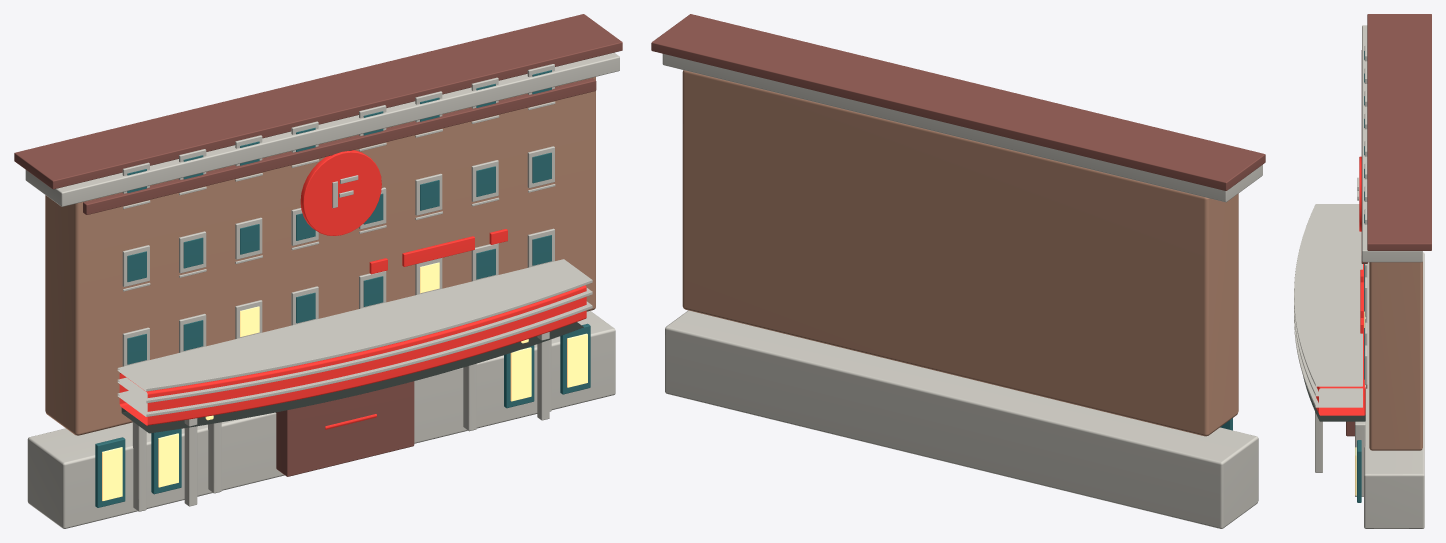
File: filmstaden.glb
3 views of the same model, side by side, from view 1: azimuth 30°, elevation 25°; view 2: azimuth 150°, elevation 25°; view 3: azimuth 270°, elevation 25° (orthographic). The views are drawn at different scales.
Visible parts, largest first — view 1: LM_Filmstaden_BrickFacade, LM_Filmstaden_DarkRoofCap, LM_Filmstaden_LightStoneGroundFloor, LM_Filmstaden_MarqueeHorizontalBand_2, LM_Filmstaden_ShallowCurvedMarquee, LM_Filmstaden_RoofCornice, LM_Filmstaden_RecessedEntranceBay, LM_Filmstaden_BrickCorniceDetail, LM_Filmstaden_RoundFSign_Backplate, LM_Filmstaden_MarqueeUnderside, LM_Filmstaden_MarqueeHorizontalBand_0, LM_Filmstaden_MarqueeHorizontalBand_1 (+14 smaller); view 2: LM_Filmstaden_BrickFacade, LM_Filmstaden_LightStoneGroundFloor, LM_Filmstaden_DarkRoofCap, LM_Filmstaden_RoofCornice; view 3: LM_Filmstaden_DarkRoofCap, LM_Filmstaden_MarqueeHorizontalBand_2, LM_Filmstaden_BrickFacade, LM_Filmstaden_LightStoneGroundFloor, LM_Filmstaden_RoofCornice, LM_Filmstaden_MarqueeHorizontalBand_0, LM_Filmstaden_ShallowCurvedMarquee, LM_Filmstaden_MarqueeHorizontalBand_1, LM_Filmstaden_GroundFloorColumn_3, LM_Filmstaden_MarqueeSupportColumn_1, LM_Filmstaden_MarqueeUnderside, LM_Filmstaden_PosterCase_3 (+2 smaller).
Part boxes in pixels (x1,y1,x2,y2): LM_Filmstaden_BrickFacade: (45,77,595,435); LM_Filmstaden_DarkRoofCap: (14,14,622,189); LM_Filmstaden_LightStoneGroundFloor: (27,311,615,528); LM_Filmstaden_MarqueeHorizontalBand_2: (117,259,592,391); LM_Filmstaden_ShallowCurvedMarquee: (119,285,586,425); LM_Filmstaden_RoofCornice: (25,52,619,206); LM_Filmstaden_RecessedEntranceBay: (276,381,414,476); LM_Filmstaden_BrickCorniceDetail: (83,78,596,214); LM_Filmstaden_RoundFSign_Backplate: (300,150,381,236); LM_Filmstaden_MarqueeUnderside: (121,322,583,433); LM_Filmstaden_MarqueeHorizontalBand_0: (117,301,592,416); LM_Filmstaden_MarqueeHorizontalBand_1: (117,288,592,403); LM_Filmstaden_BrickFacade: (682,70,1238,436); LM_Filmstaden_LightStoneGroundFloor: (665,310,1258,528); LM_Filmstaden_DarkRoofCap: (651,14,1265,190); LM_Filmstaden_RoofCornice: (662,54,1262,202); LM_Filmstaden_DarkRoofCap: (1367,14,1431,250); LM_Filmstaden_MarqueeHorizontalBand_2: (1294,204,1362,386); LM_Filmstaden_BrickFacade: (1369,262,1422,450); LM_Filmstaden_LightStoneGroundFloor: (1364,252,1424,528); LM_Filmstaden_RoofCornice: (1362,25,1422,262); LM_Filmstaden_MarqueeHorizontalBand_0: (1294,312,1362,407); LM_Filmstaden_ShallowCurvedMarquee: (1316,264,1365,415); LM_Filmstaden_MarqueeHorizontalBand_1: (1294,302,1362,396); LM_Filmstaden_GroundFloorColumn_3: (1355,421,1365,496); LM_Filmstaden_MarqueeSupportColumn_1: (1315,412,1322,472); LM_Filmstaden_MarqueeUnderside: (1303,377,1365,421); LM_Filmstaden_PosterCase_3: (1357,440,1361,502).
Size of the model in its own units: 3.04 by 1.78 by 0.77.
